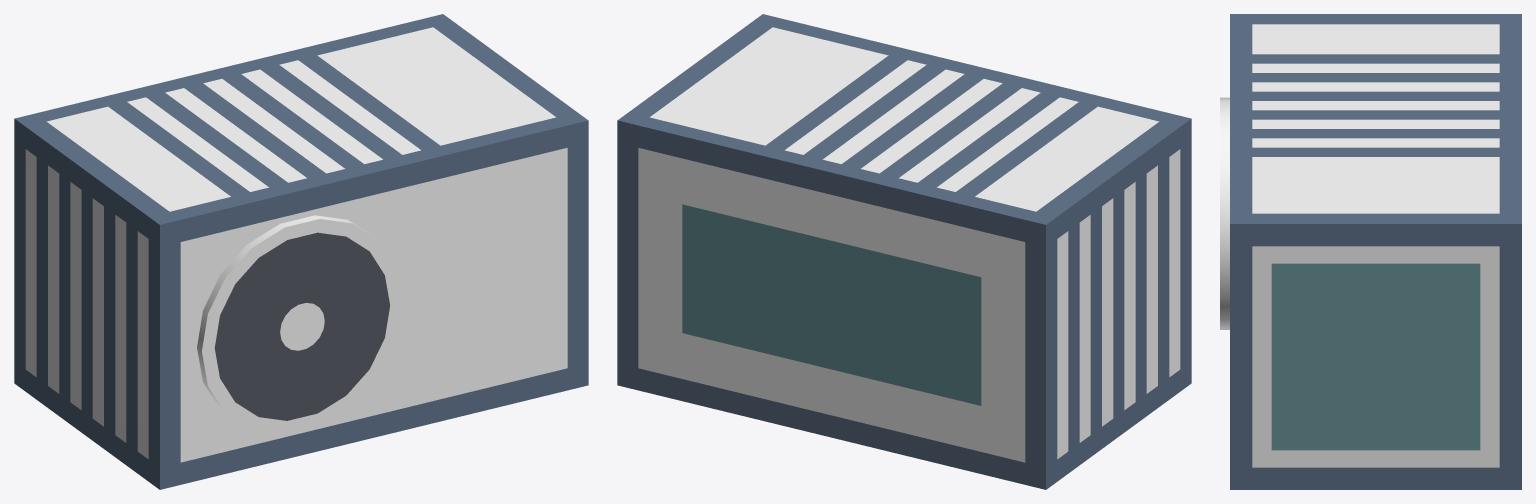
3 views of the same model, side by side, from view 1: azimuth 30°, elevation 25°; view 2: azimuth 150°, elevation 25°; view 3: azimuth 270°, elevation 25° (orthographic).
Parts seen in each view (by area): view 1: ac2; view 2: ac2; view 3: ac2.
Part boxes in pixels (x1,y1,x2,y2): ac2: (14,14,588,489); ac2: (617,14,1191,489); ac2: (1220,14,1521,489).
Size of the model in its own units: 2.81 by 1.66 by 1.7.
